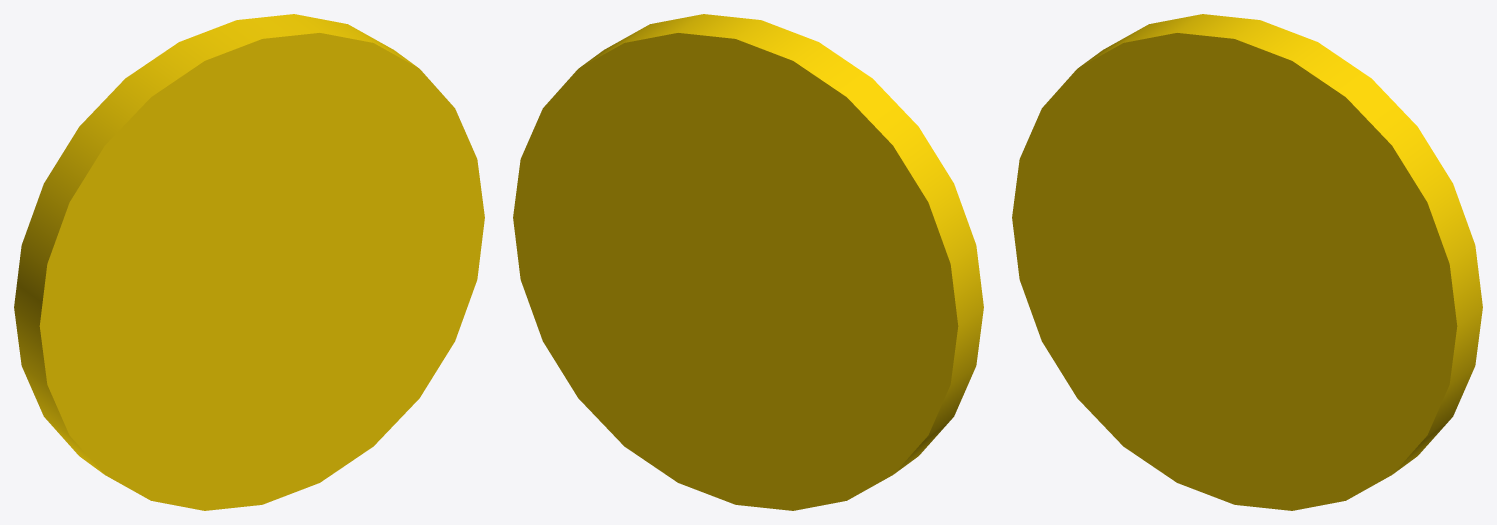
Rendered from coin.glb.
3 renders of one model, left to right at view 1: azimuth 30°, elevation 25°; view 2: azimuth 150°, elevation 25°; view 3: azimuth 330°, elevation 25°, orthographic.
Size of the model in its own units: 0.8 by 0.8 by 0.08.
